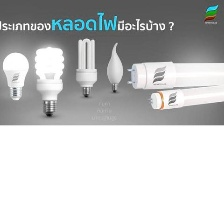light_bulb: (121, 58, 224, 91), (32, 43, 65, 121), (146, 80, 224, 111), (74, 35, 100, 99), (0, 51, 30, 103), (104, 39, 125, 95)
